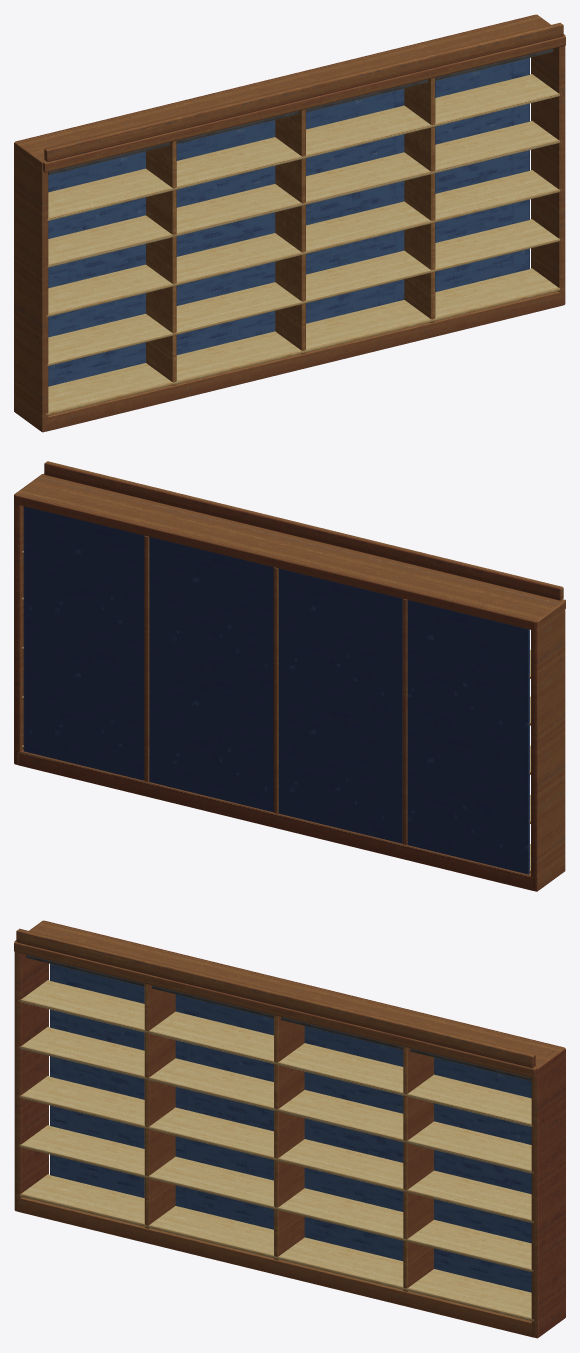
The model's file is collection_cabinet.glb.
3 renders of one model, top to bottom at view 1: azimuth 30°, elevation 25°; view 2: azimuth 150°, elevation 25°; view 3: azimuth 330°, elevation 25°, orthographic.
Parts seen in each view (by area): view 1: mesh; view 2: mesh; view 3: mesh.
Boxes of the visible parts, <box> form: mesh: <box>14,14,565,432</box>; mesh: <box>14,461,565,891</box>; mesh: <box>14,920,565,1338</box>.
Bounding box in the file's own units: 4.46 × 2.3 × 0.4497.
1 material, 1 textured.
